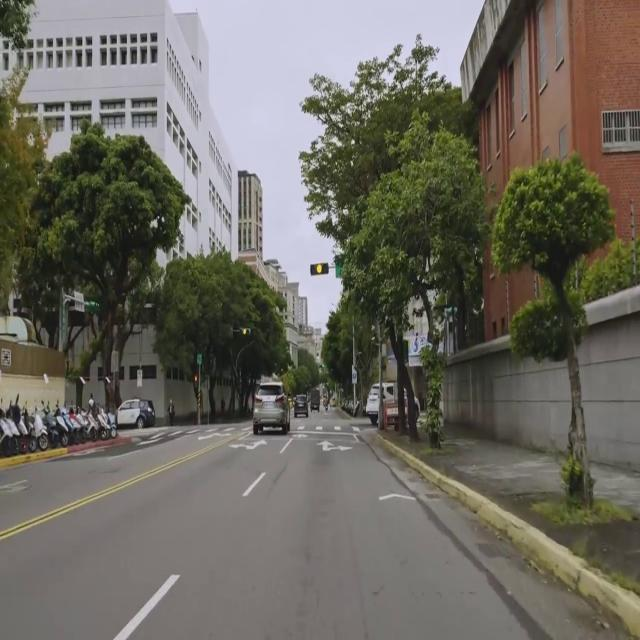yellow light: (310, 262, 329, 276), (240, 328, 252, 337)
